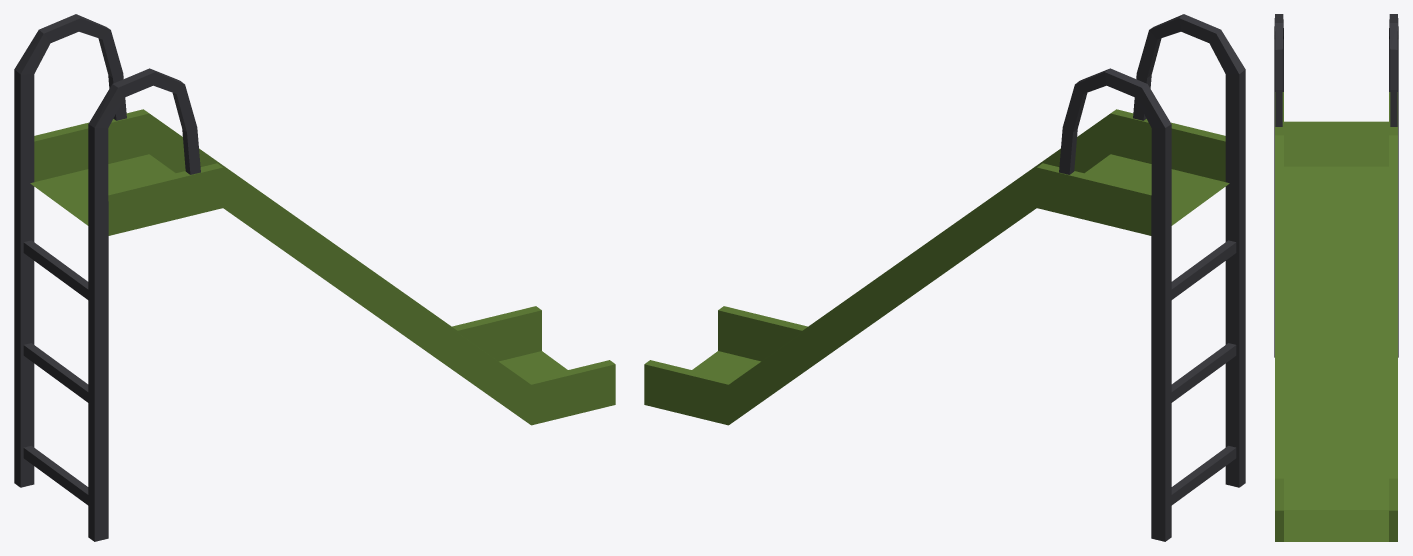
File: slide.fbx
3 renders of one model, left to right at view 1: azimuth 30°, elevation 25°; view 2: azimuth 150°, elevation 25°; view 3: azimuth 270°, elevation 25°, orthographic. The views are drawn at different scales.
Visible parts, largest first — view 1: slide; view 2: slide; view 3: slide.
Part boxes in pixels (x1,y1,x2,y2): slide: (14,14,615,541); slide: (644,14,1245,541); slide: (1274,14,1398,541).
Bounding box in the file's own units: 600 × 500 × 160.
